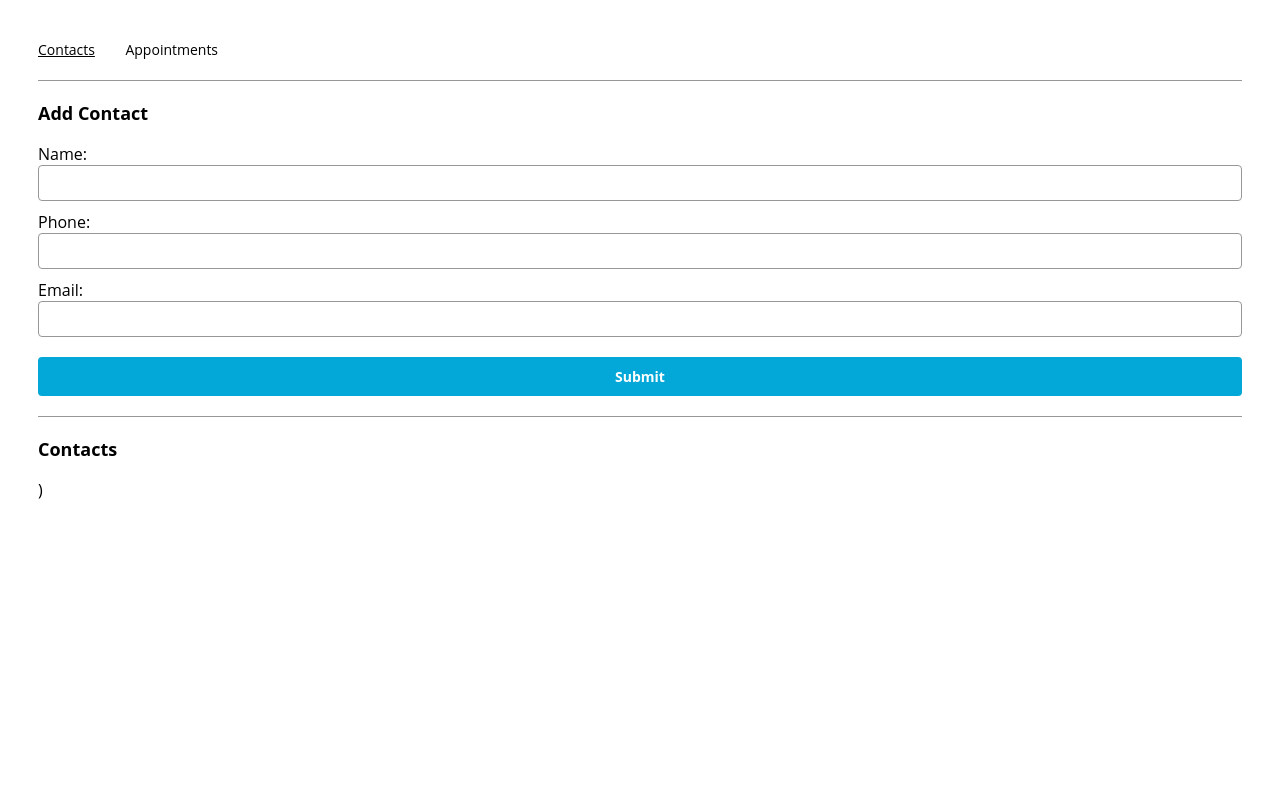
it: With full UI loaded › On submitting a contact › The contact details should appear in the contact list
Type "Joe Bloggs" into the field labelled "Name:" at (640,183), box [38,165,1242,201]
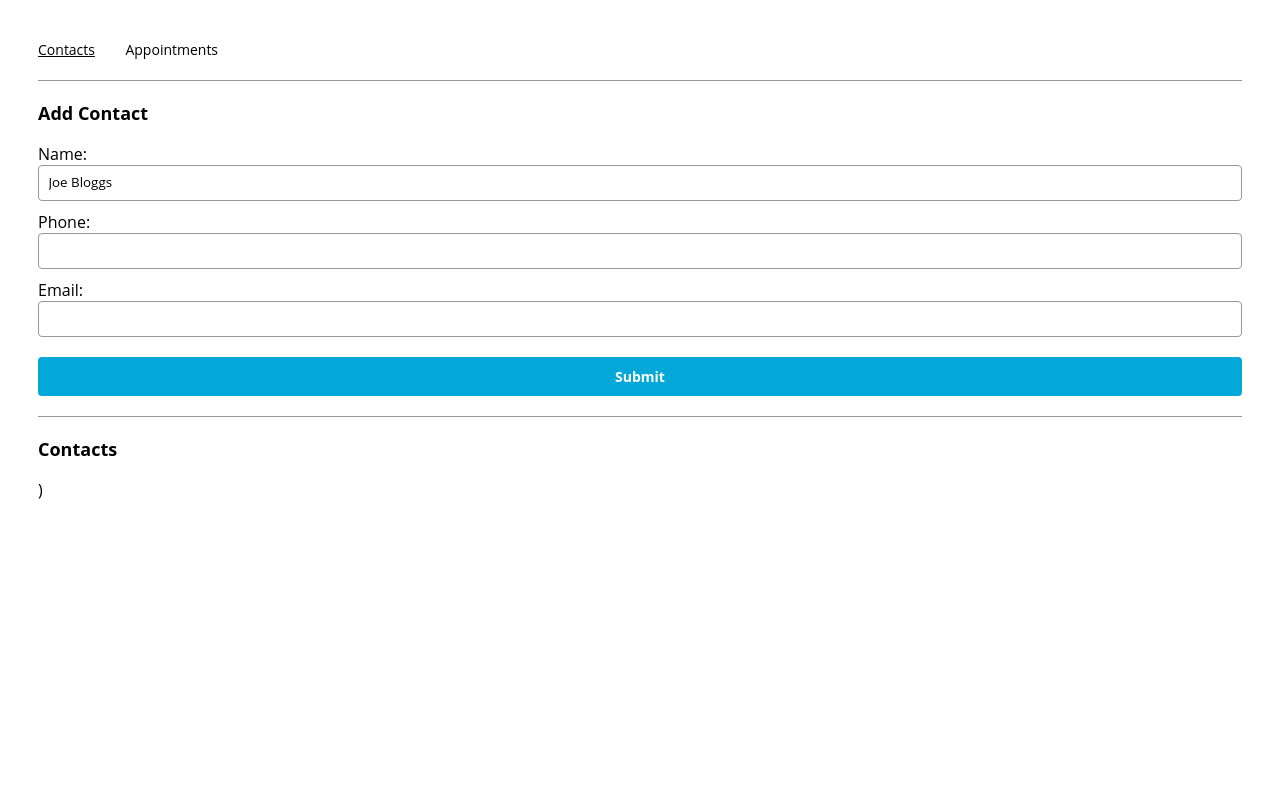
Type "0123456789" into the field labelled "Phone:" at (640,251), box [38,233,1242,269]
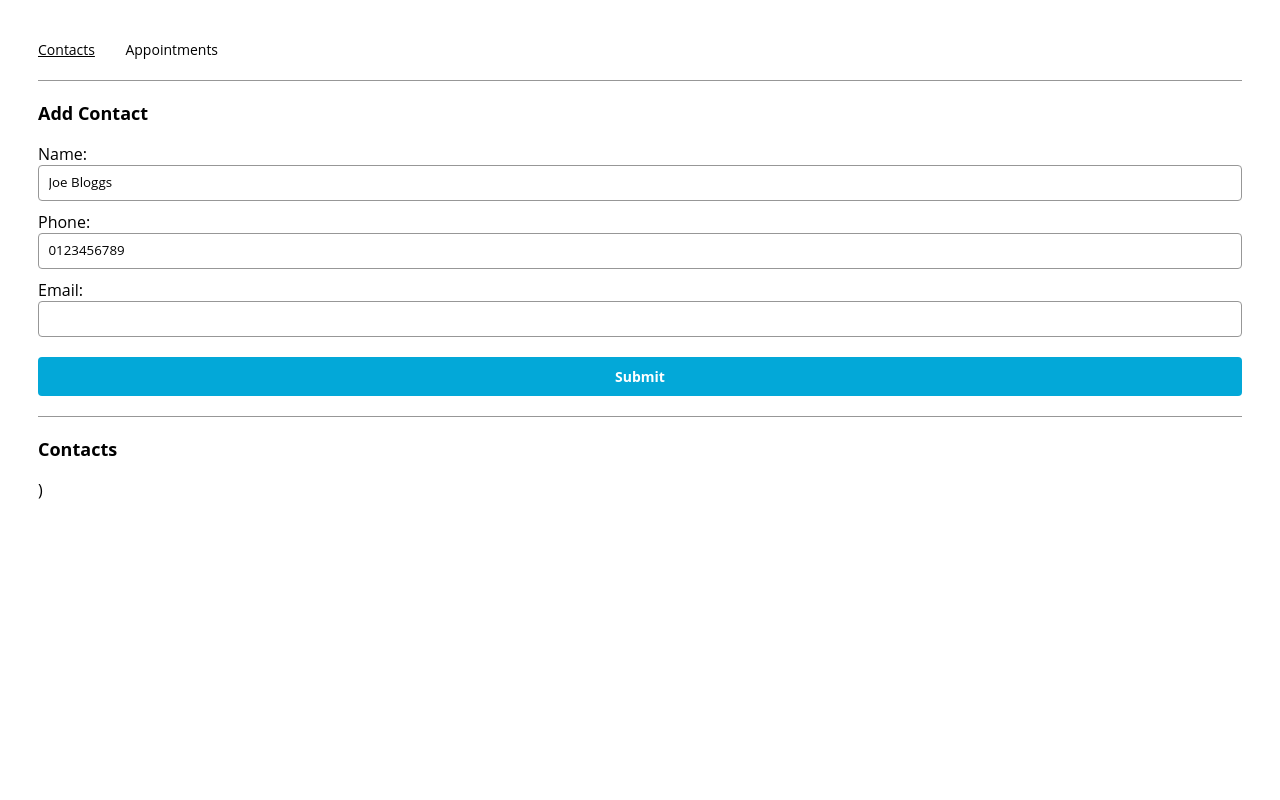
Type "joe@bloggs.com" into the field labelled "Email:" at (640,319), box [38,301,1242,337]
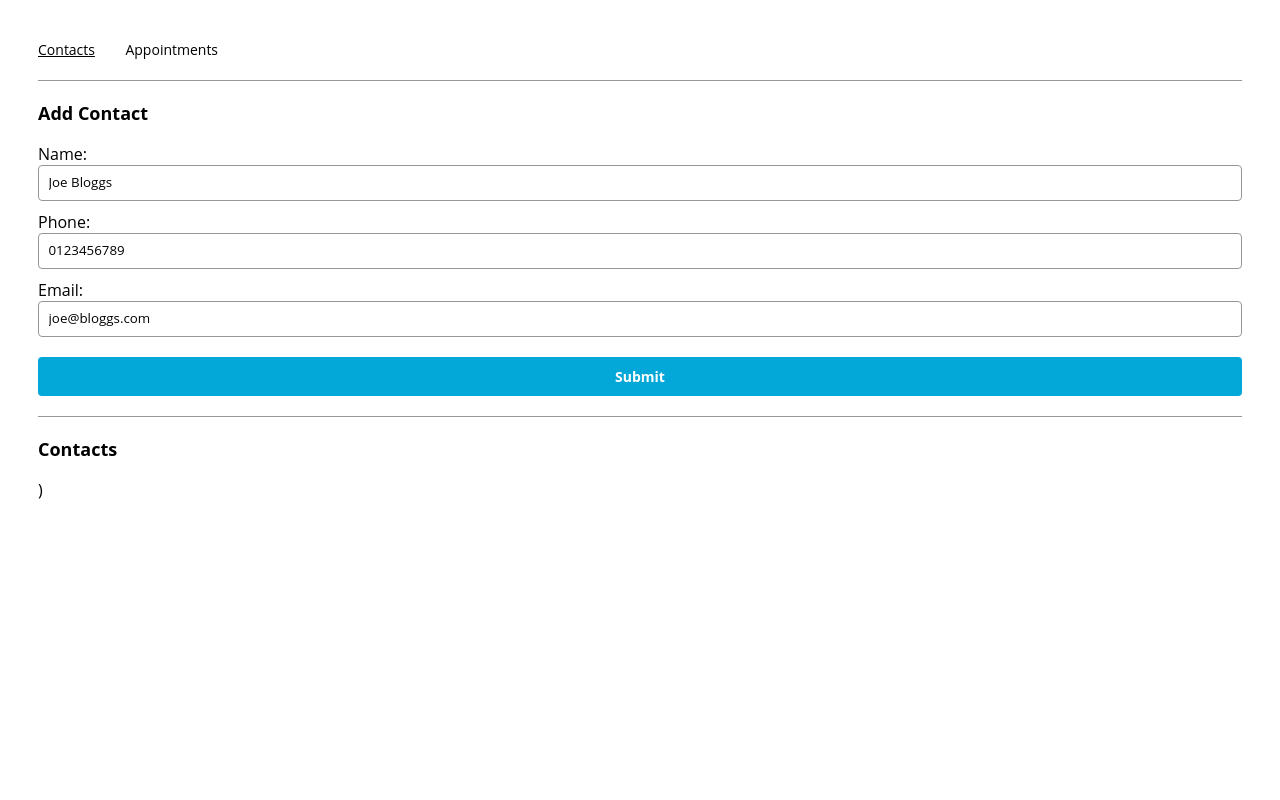
Click the button "Submit" at (640,376), box [38,357,1242,396]
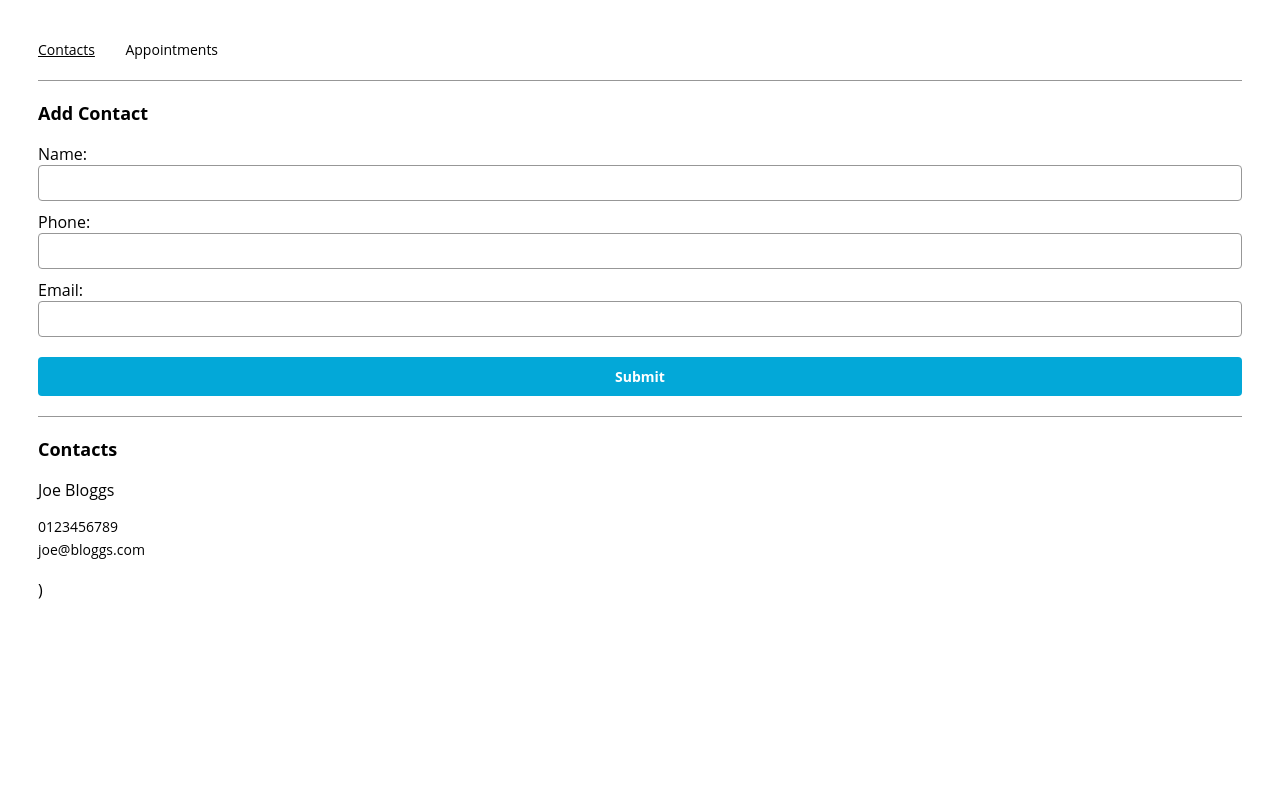
Expected: the field labelled "Name:" does not hold "Joe Bloggs", [38,165,1242,201]
Expected: the text "Joe Bloggs" is shown, [38,479,114,501]
